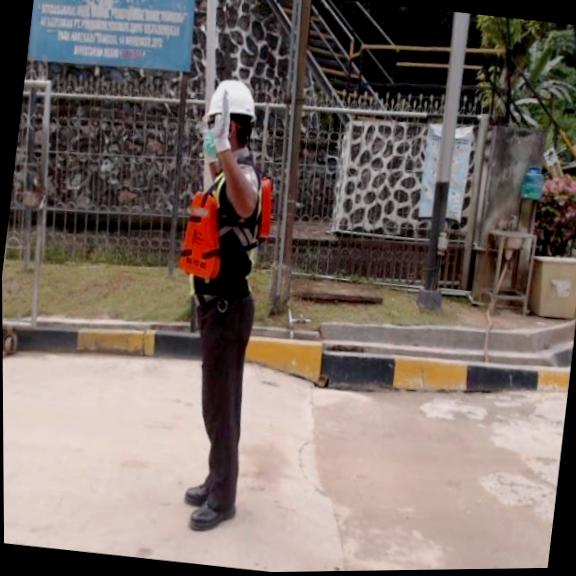safety_vest: (175, 159, 279, 296)
